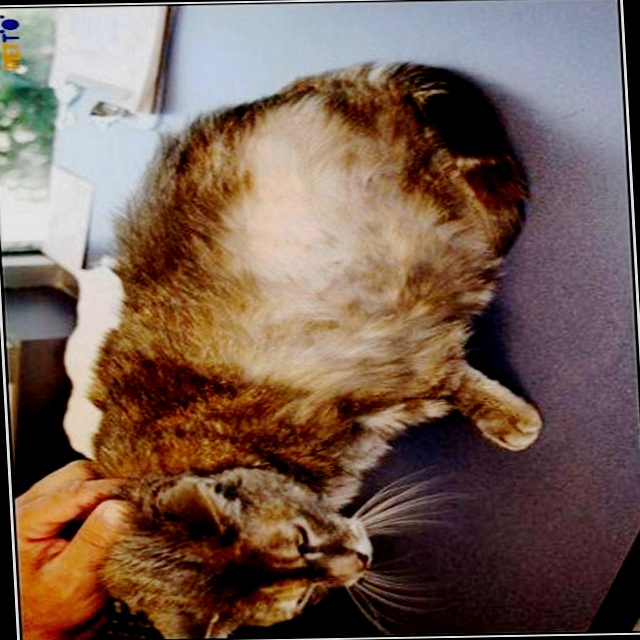hairloss: (228, 112, 345, 301)
